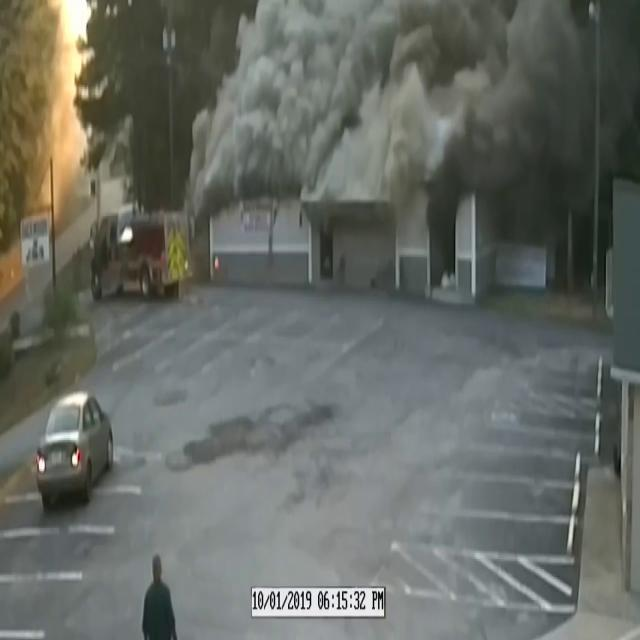Smoke: (415, 0, 640, 267), (185, 0, 430, 229)
